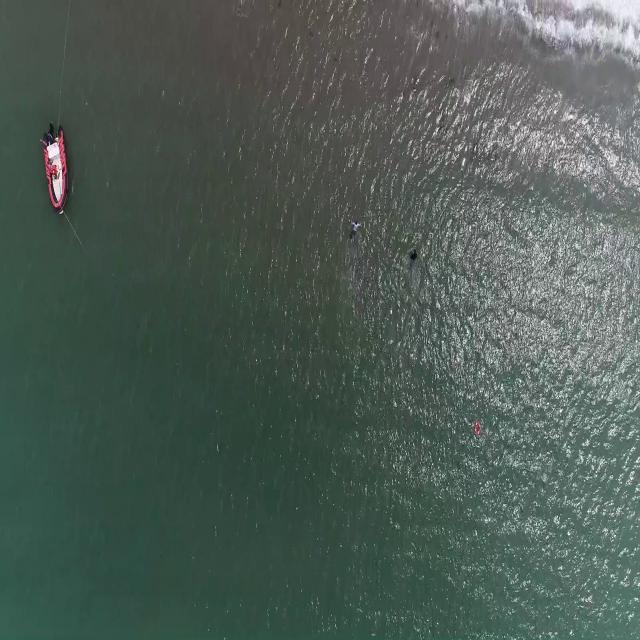boat: (40, 125, 70, 213)
life_buoy: (474, 421, 482, 436)
person: (349, 217, 362, 240), (409, 245, 418, 265)
